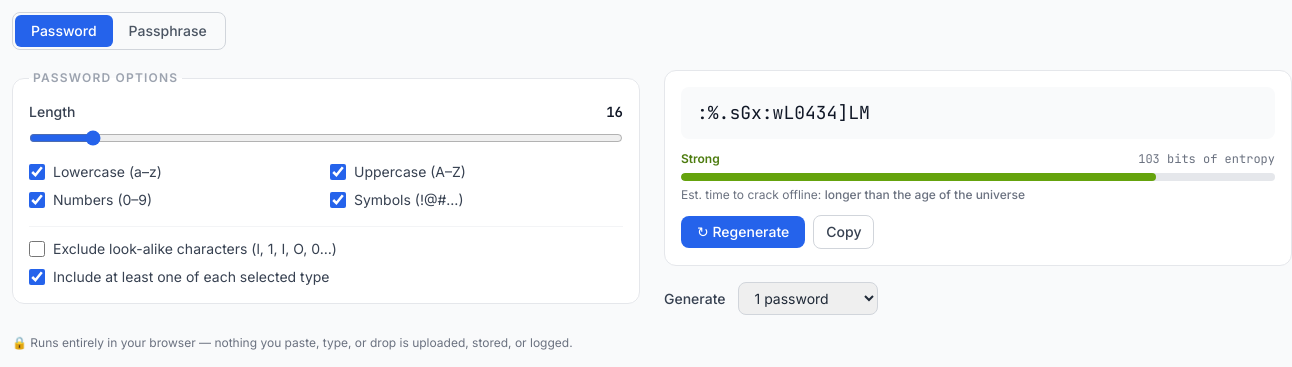
it: PasswordGenerator › shows an error when no character type is selected
Check: the element with test id "pw-output" does not show "—"
Click the checkbox labelled "Lowercase (a–z)" at [37, 172], box [29,164,45,180]
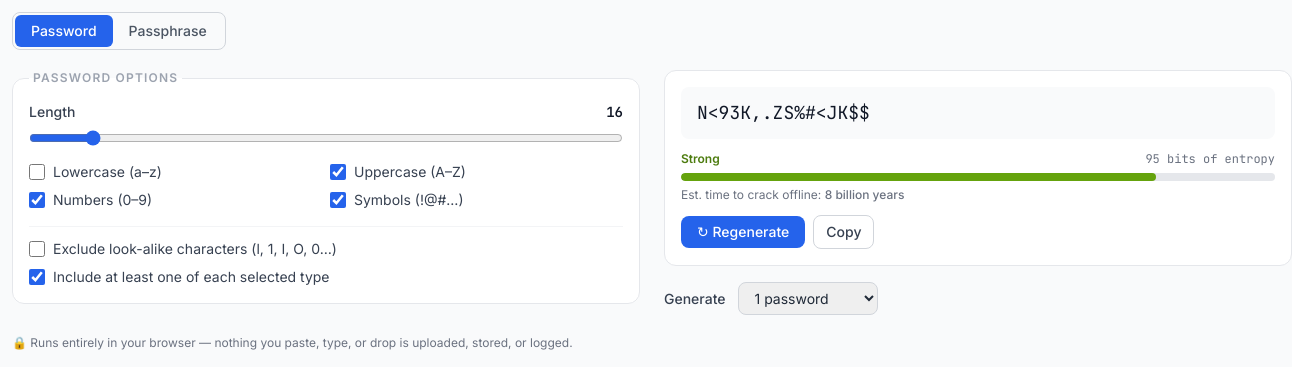
Click the checkbox labelled "Uppercase (A–Z)" at [338, 172], box [330,164,346,180]
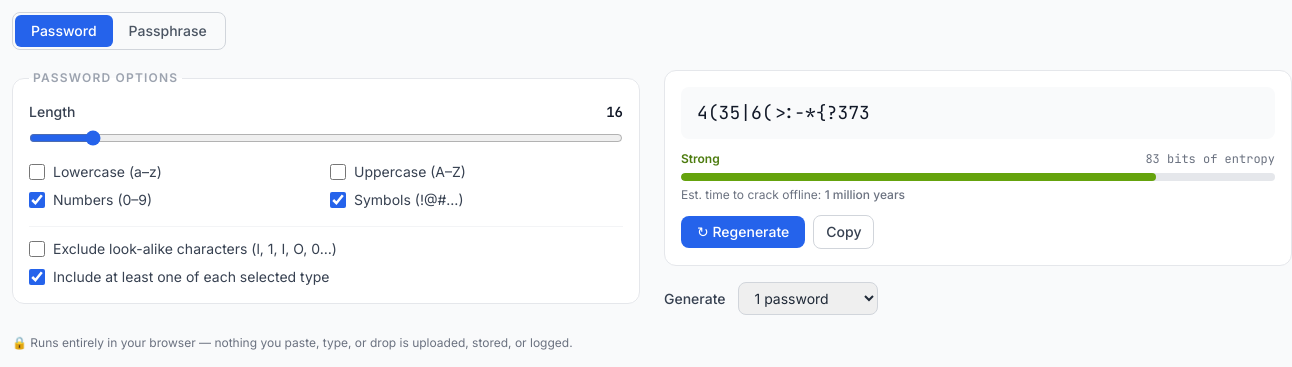
Click the checkbox labelled "Numbers (0–9)" at [37, 200], box [29,192,45,208]
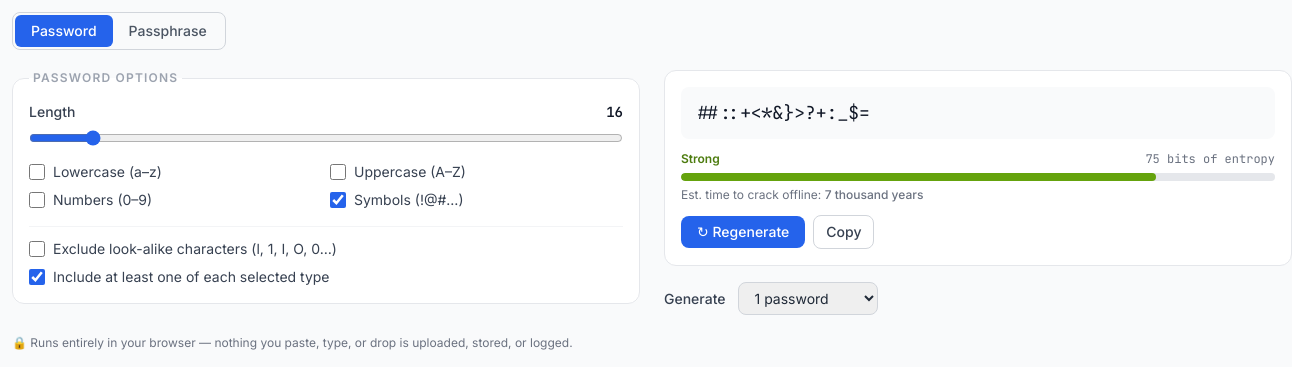
Click the checkbox labelled "Symbols (!@#…)" at [338, 200], box [330,192,346,208]
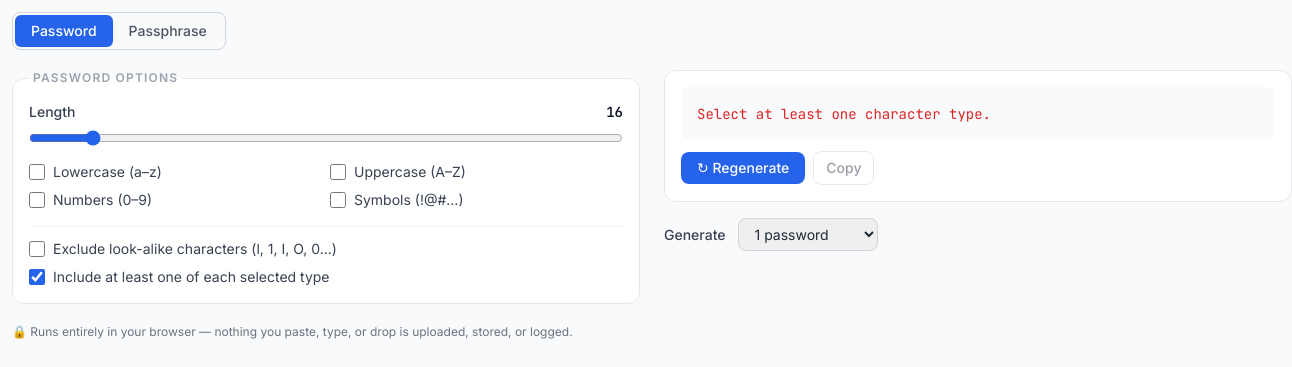
Check: the text "Select at least one character type." is shown, box [697,105,991,123]
